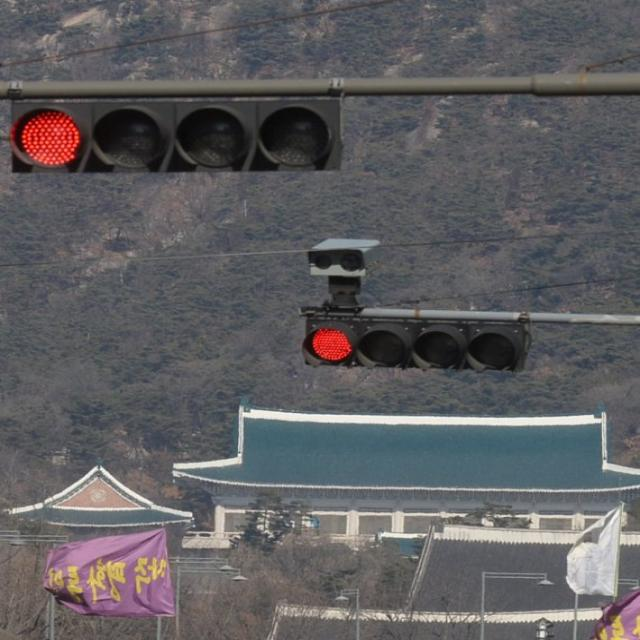Red Light: (15, 106, 84, 166), (305, 314, 360, 365)
